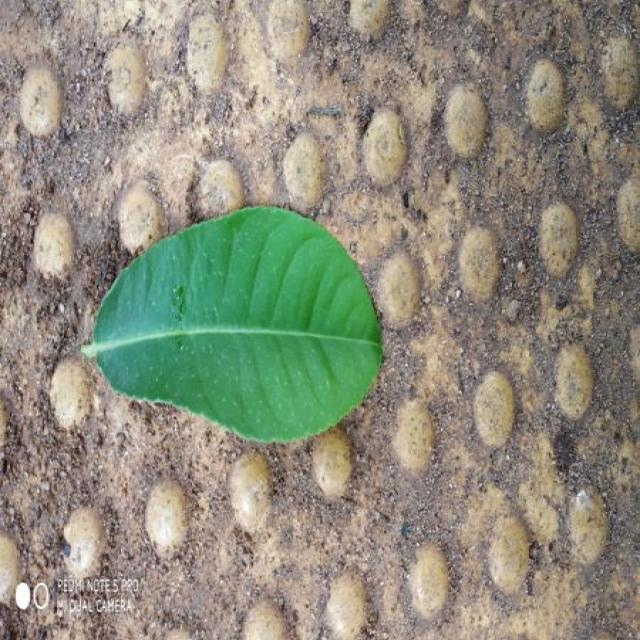badipala: (82, 206, 382, 442)
